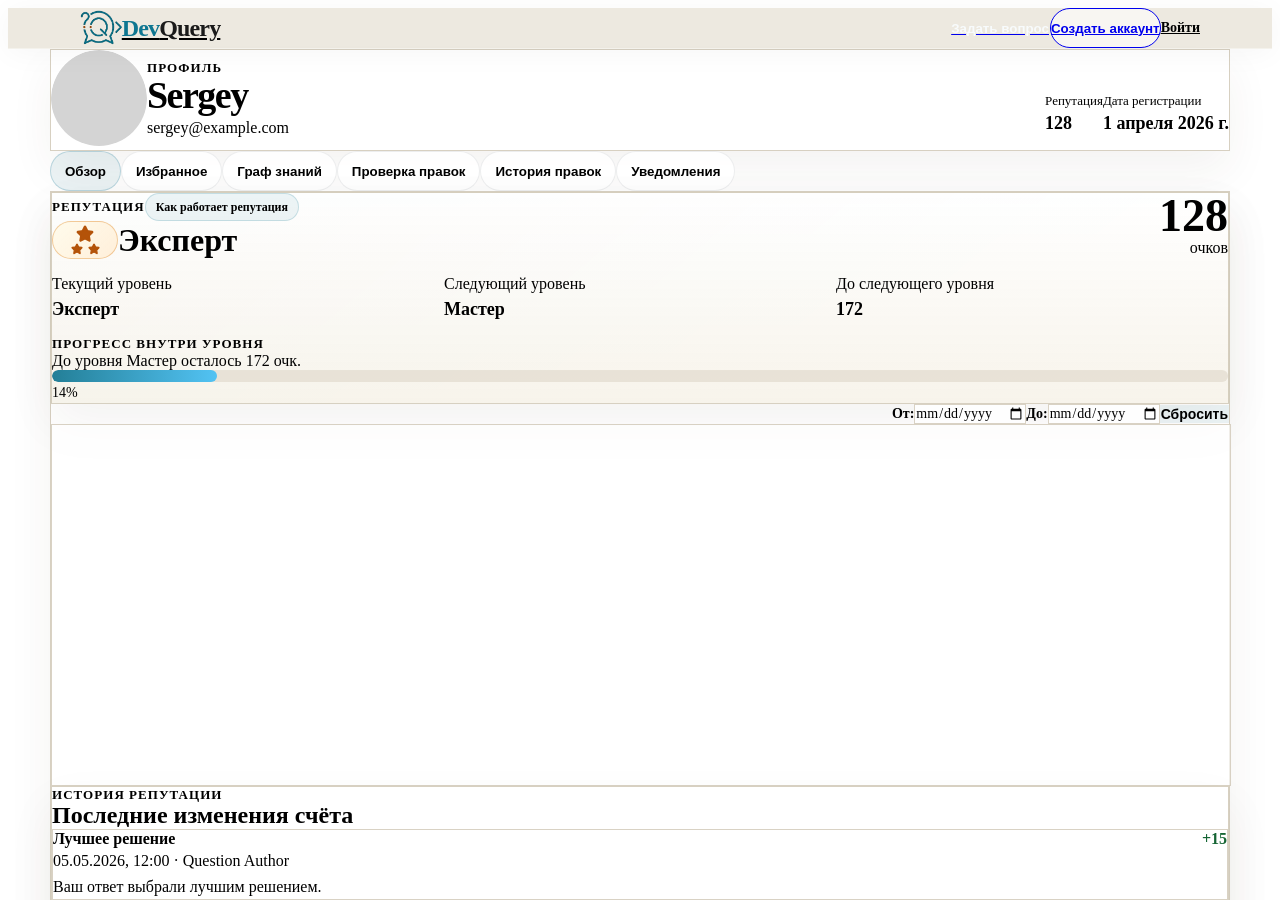
Test: profile reputation surfaces › closes the reputation dialog with the AppDialog close button without disrupting the overview route
Click the button with test id "reputation-explanation-trigger" at coordinates (222, 207), box x1=145 y1=193 x2=299 y2=221
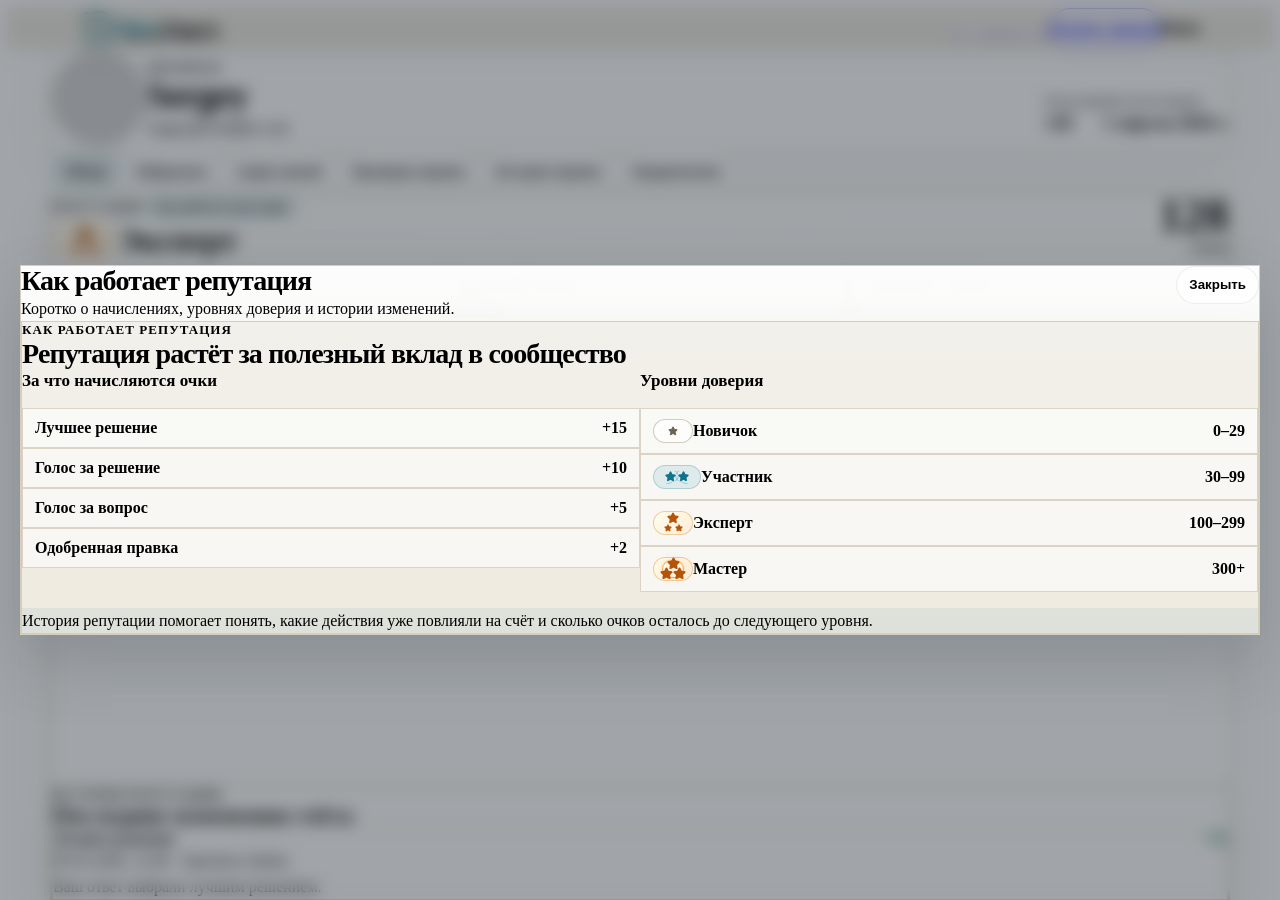
Expected: the dialog is shown, x1=20 y1=265 x2=1260 y2=636
Click the button with class "app-dialog__close" at coordinates (1218, 285), box x1=1176 y1=266 x2=1259 y2=304
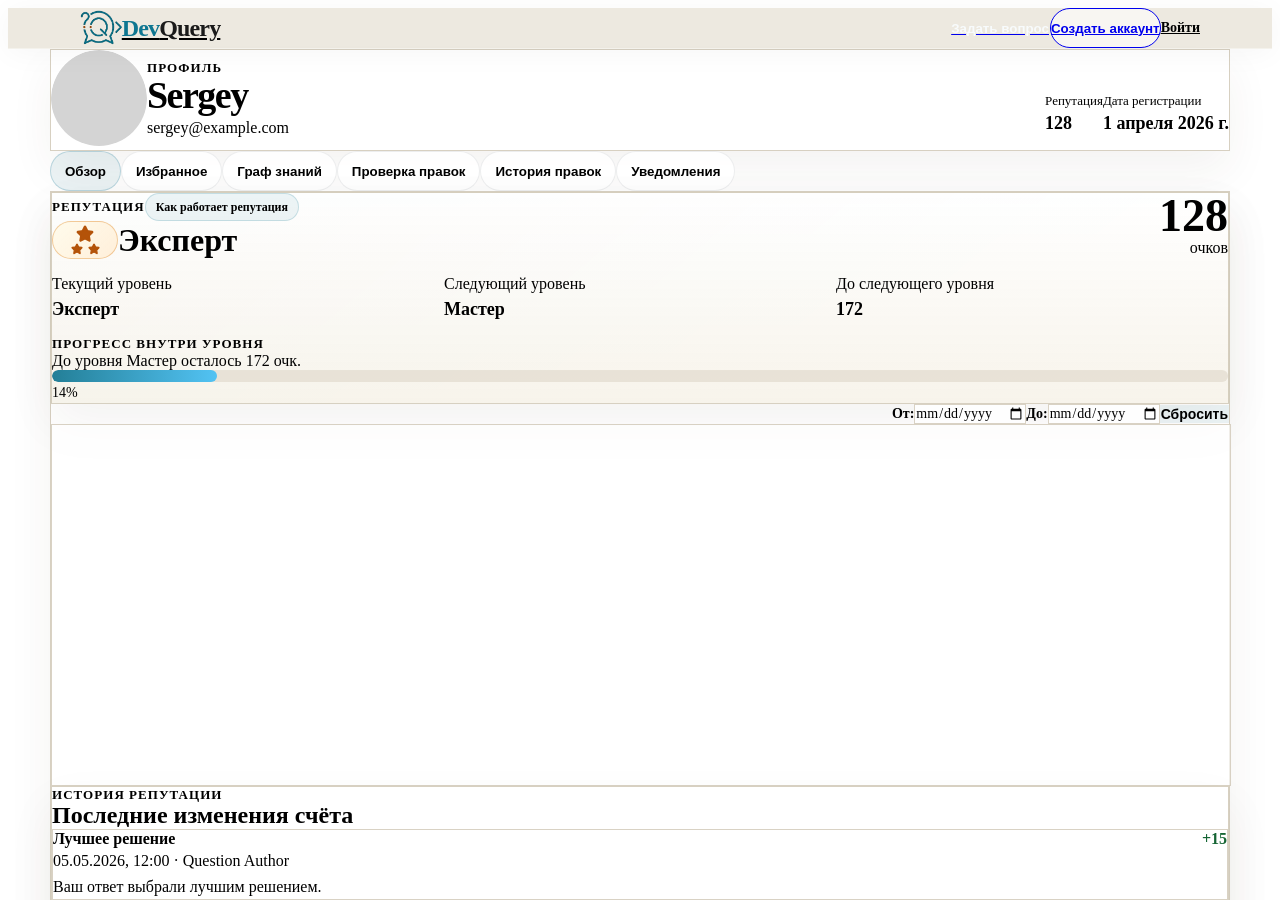
Expected: the button with test id "reputation-explanation-trigger" is shown, x1=145 y1=193 x2=299 y2=221
Expected: the dialog is gone
Expected: the element with test id "reputation-explanation-panel" is gone
